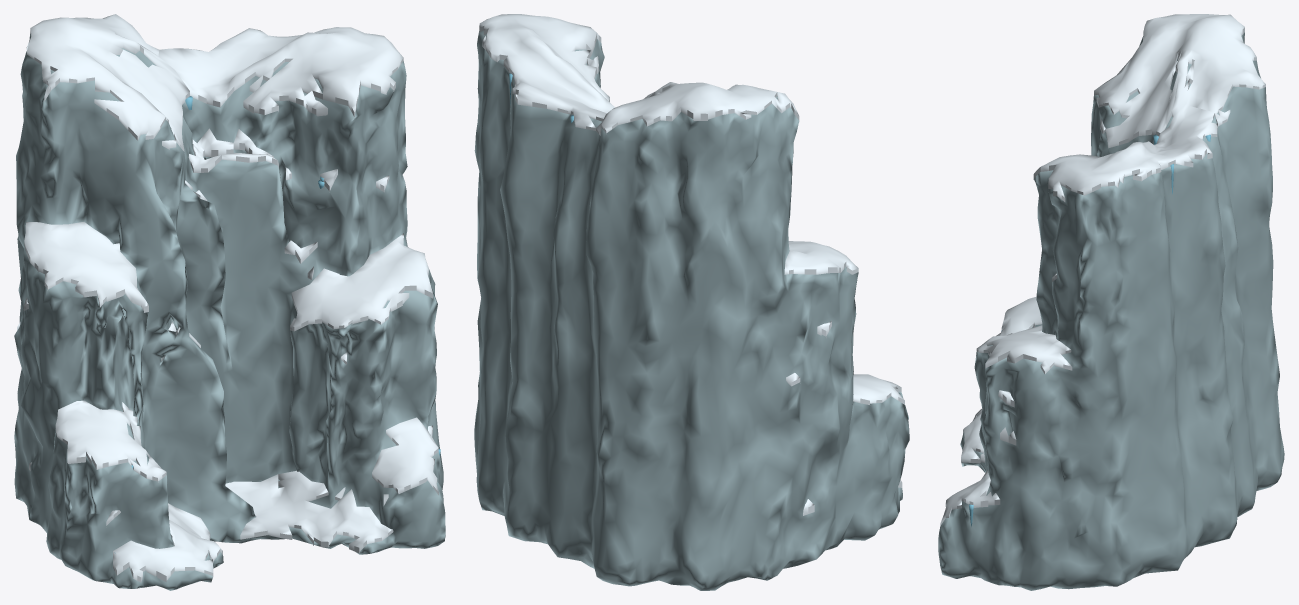
File: ThirdRoom_CliffPillar.fbx
3 renders of one model, left to right at view 1: azimuth 30°, elevation 25°; view 2: azimuth 150°, elevation 25°; view 3: azimuth 270°, elevation 25°, orthographic. The views are drawn at different scales.
Visible parts, largest first — view 1: ThirdRoom_CliffPillar_LOD0; view 2: ThirdRoom_CliffPillar_LOD0; view 3: ThirdRoom_CliffPillar_LOD0.
Part boxes in pixels (box(x1,y1,x2,y2)): ThirdRoom_CliffPillar_LOD0: box(14, 14, 445, 590); ThirdRoom_CliffPillar_LOD0: box(474, 14, 909, 590); ThirdRoom_CliffPillar_LOD0: box(938, 14, 1284, 590).
Size of what is drawn, in the model's own units: 4.9 by 6.07 by 4.18.
